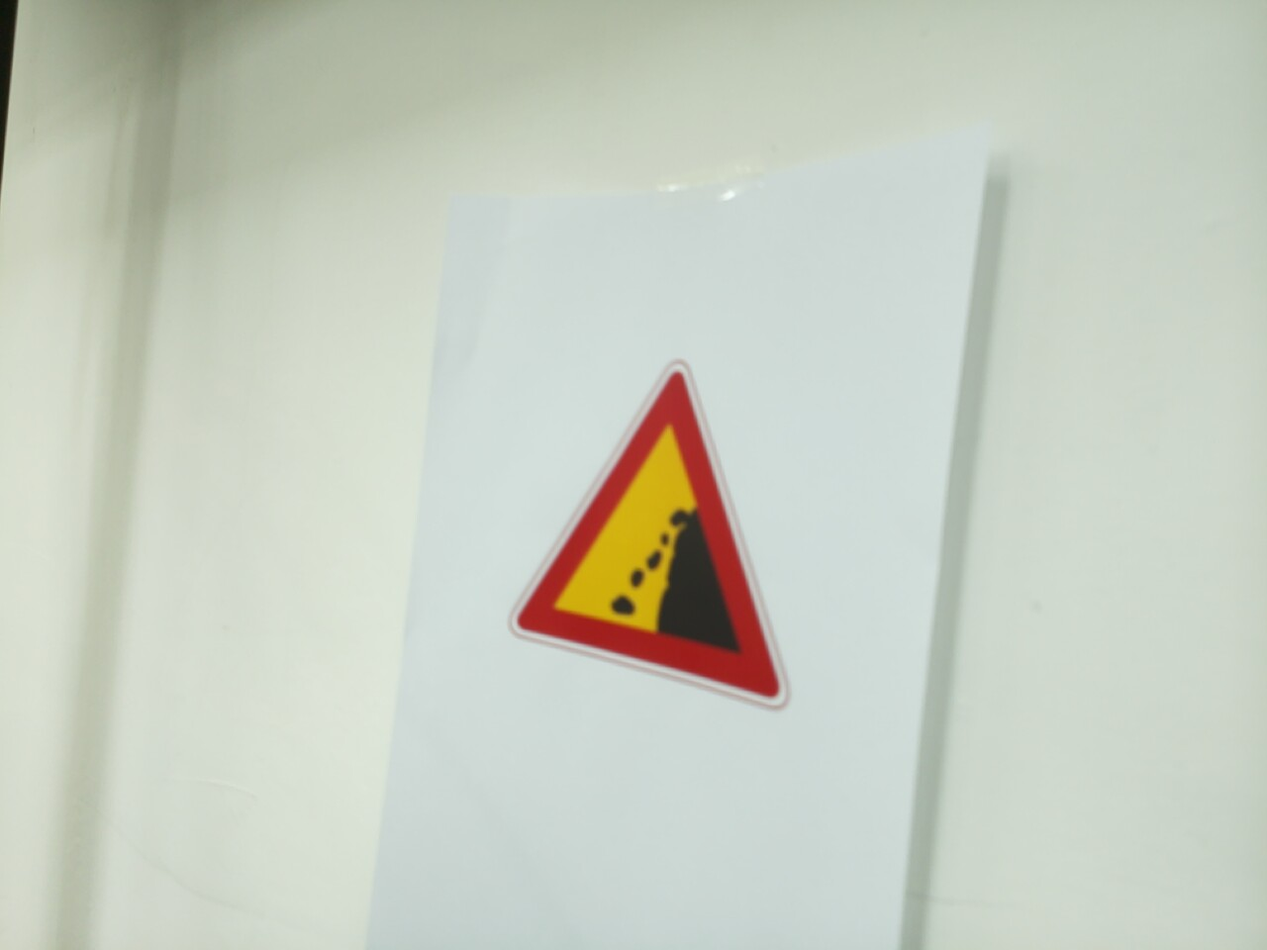falling_rocks: (508, 362, 788, 708)
